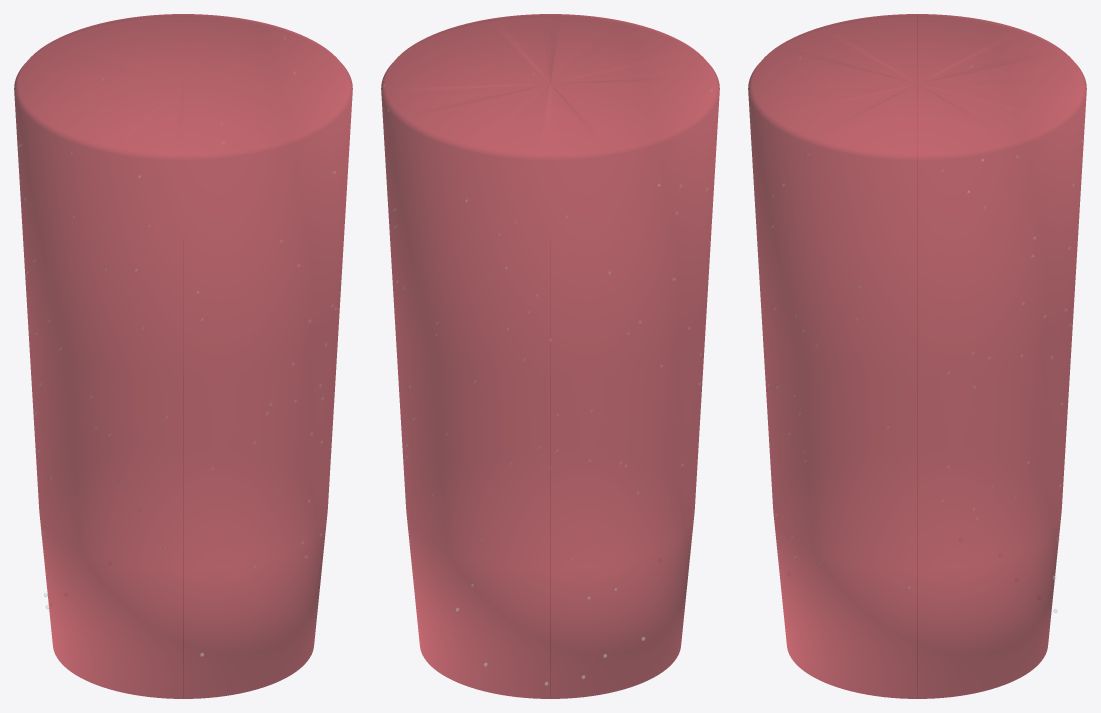
File: sweet-soda.glb
3 views of the same model, side by side, from view 1: azimuth 30°, elevation 25°; view 2: azimuth 150°, elevation 25°; view 3: azimuth 270°, elevation 25° (orthographic).
Visible parts, largest first — view 1: soda liquid volume; view 2: soda liquid volume; view 3: soda liquid volume.
Part boxes in pixels (x1=…): soda liquid volume: x1=14, y1=14, x2=352, y2=698; soda liquid volume: x1=381, y1=14, x2=719, y2=698; soda liquid volume: x1=748, y1=14, x2=1086, y2=698.
Size of the model in its own units: 1.3 by 2.36 by 1.3.
